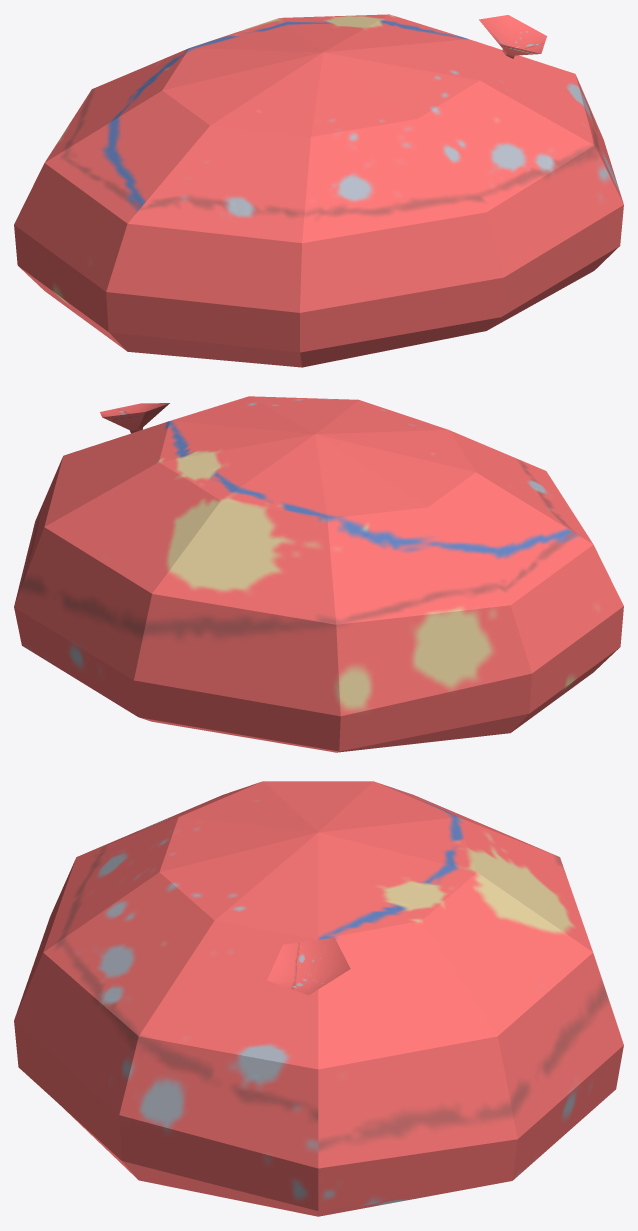
The model's file is WaterBalloon_Landmine_1.fbx.
The picture shows the model from 3 angles, top to bottom: view 1: azimuth 30°, elevation 25°; view 2: azimuth 150°, elevation 25°; view 3: azimuth 270°, elevation 25°; orthographic projection. The views are drawn at different scales.
Visible parts, largest first — view 1: pSphere2, pCylinder1; view 2: pSphere2, pCylinder1; view 3: pSphere2, pCylinder1.
Boxes of the visible parts, <box> form: pSphere2: <box>14,14,623,367</box>; pCylinder1: <box>479,15,546,58</box>; pSphere2: <box>14,396,623,752</box>; pCylinder1: <box>100,403,169,433</box>; pSphere2: <box>14,781,623,1216</box>; pCylinder1: <box>267,937,350,995</box>.
Size of the model in its own units: 626 by 232 by 529.
Materials: 1 (1 with a texture image).
